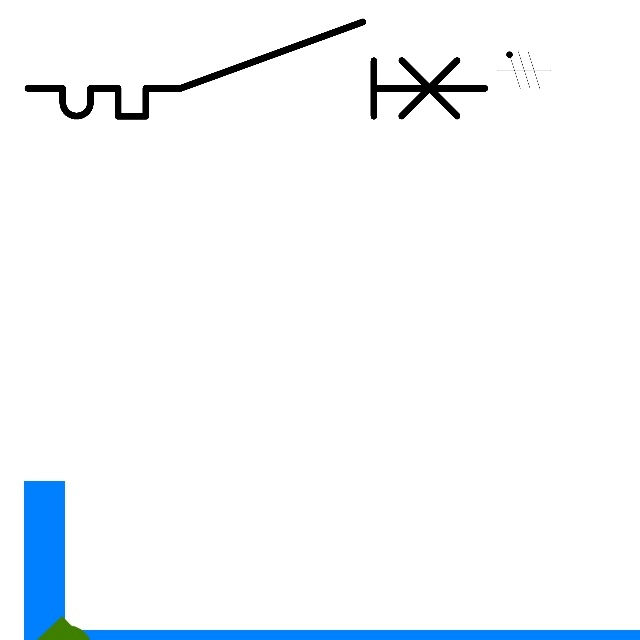interruptor_termomagnetico: (16, 10, 497, 128)
